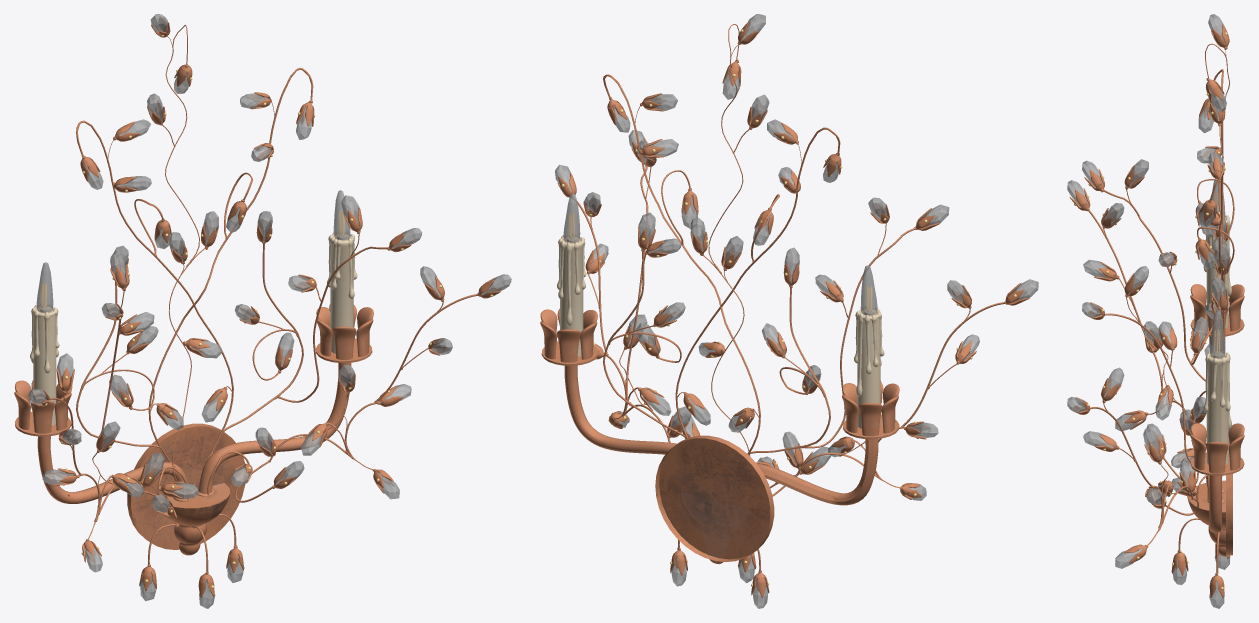
Rendered from obj_copper_wall_sconce_069fe3.glb.
The picture shows the model from 3 angles, left to right: view 1: azimuth 30°, elevation 25°; view 2: azimuth 150°, elevation 25°; view 3: azimuth 270°, elevation 25°; orthographic projection. The views are drawn at different scales.
Parts seen in each view (by area): view 1: obj_copper_wall_sconce_069fe3; view 2: obj_copper_wall_sconce_069fe3; view 3: obj_copper_wall_sconce_069fe3.
Part boxes in pixels (x1,y1,x2,y2): obj_copper_wall_sconce_069fe3: [14, 14, 511, 608]; obj_copper_wall_sconce_069fe3: [540, 14, 1038, 608]; obj_copper_wall_sconce_069fe3: [1067, 14, 1244, 608].
Size of the model in its own units: 0.6852 by 0.8 by 0.231.
Materials: 2 (2 with a texture image).
